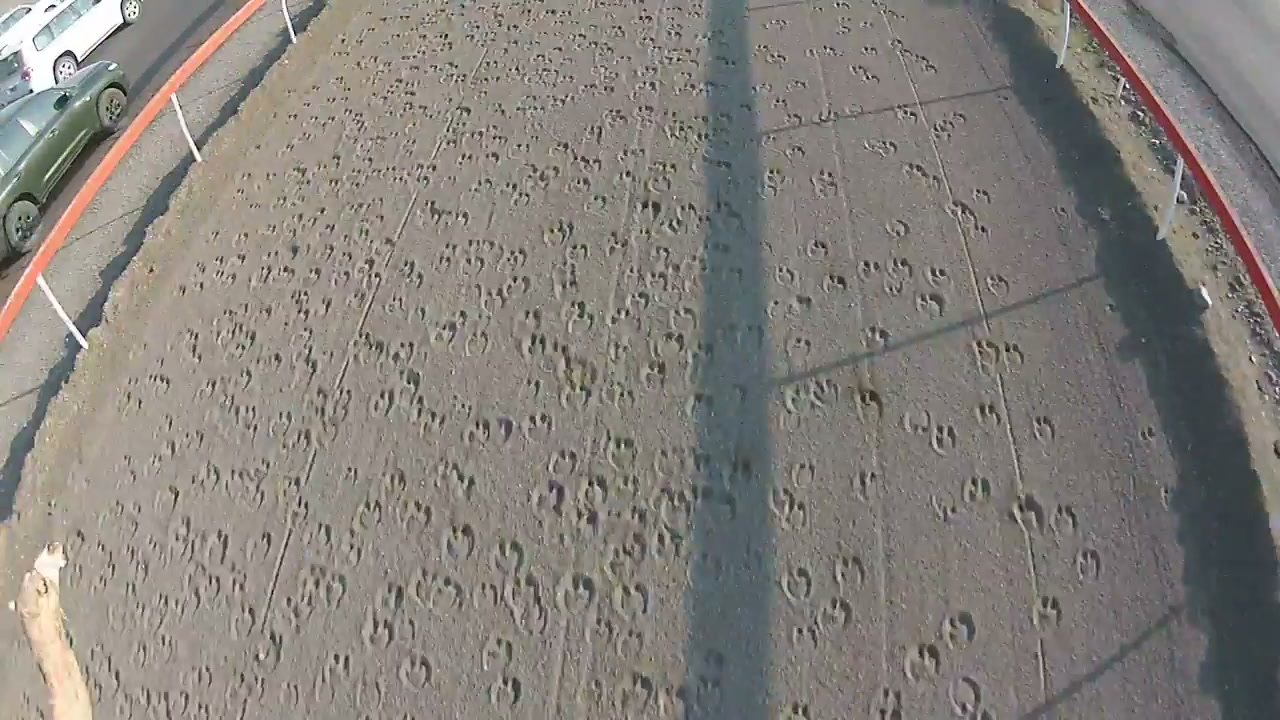animal_footprint: (74, 0, 1125, 719), (903, 643, 942, 683), (947, 675, 982, 717), (941, 610, 977, 650), (1010, 493, 1045, 533), (868, 686, 904, 719), (1032, 595, 1062, 628), (1074, 548, 1102, 580), (975, 401, 1003, 430)
